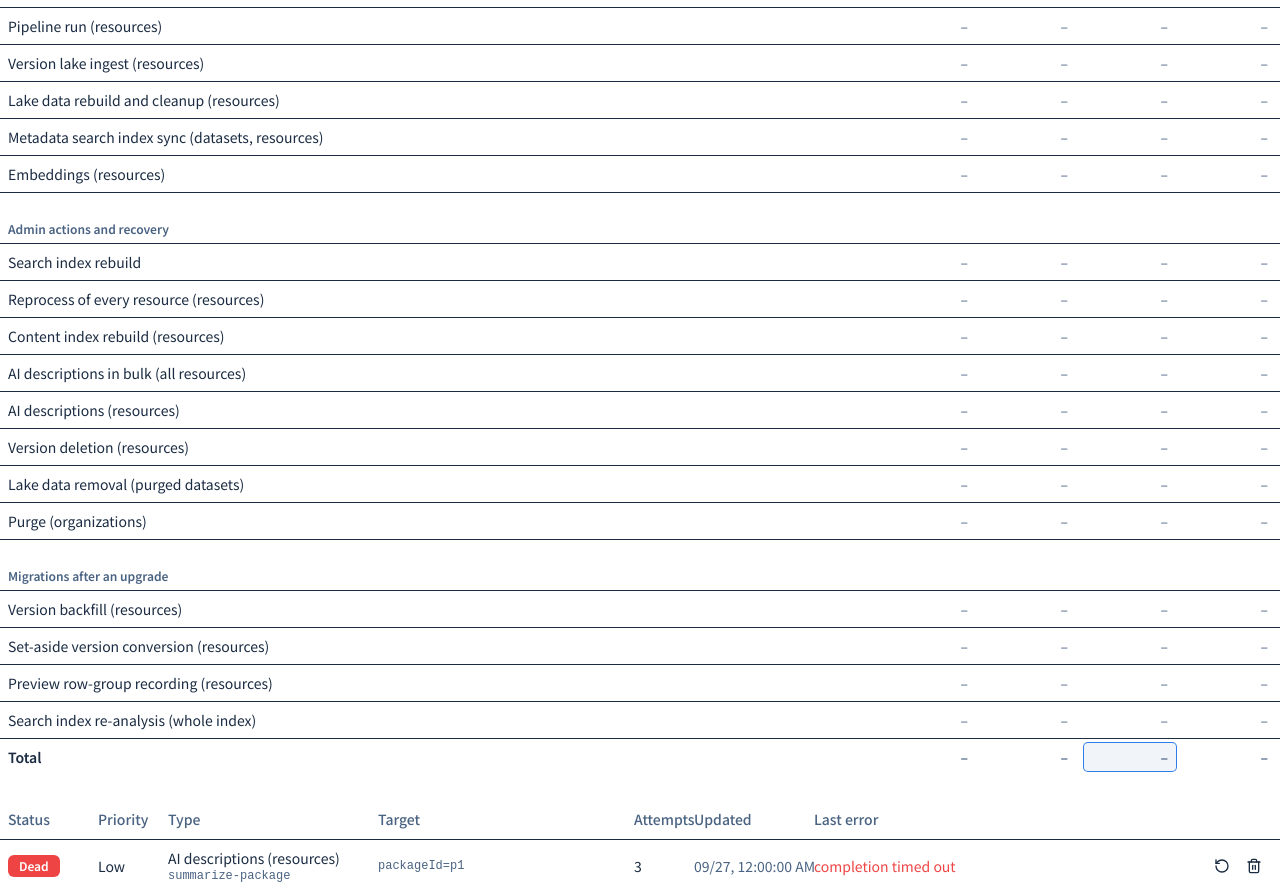
Test case: AdminQueuePage › stops polling while the delete dialog is open
(page scrolled)
Click the button named "Delete" at x=1254, y=866, box [1240,852,1268,880]
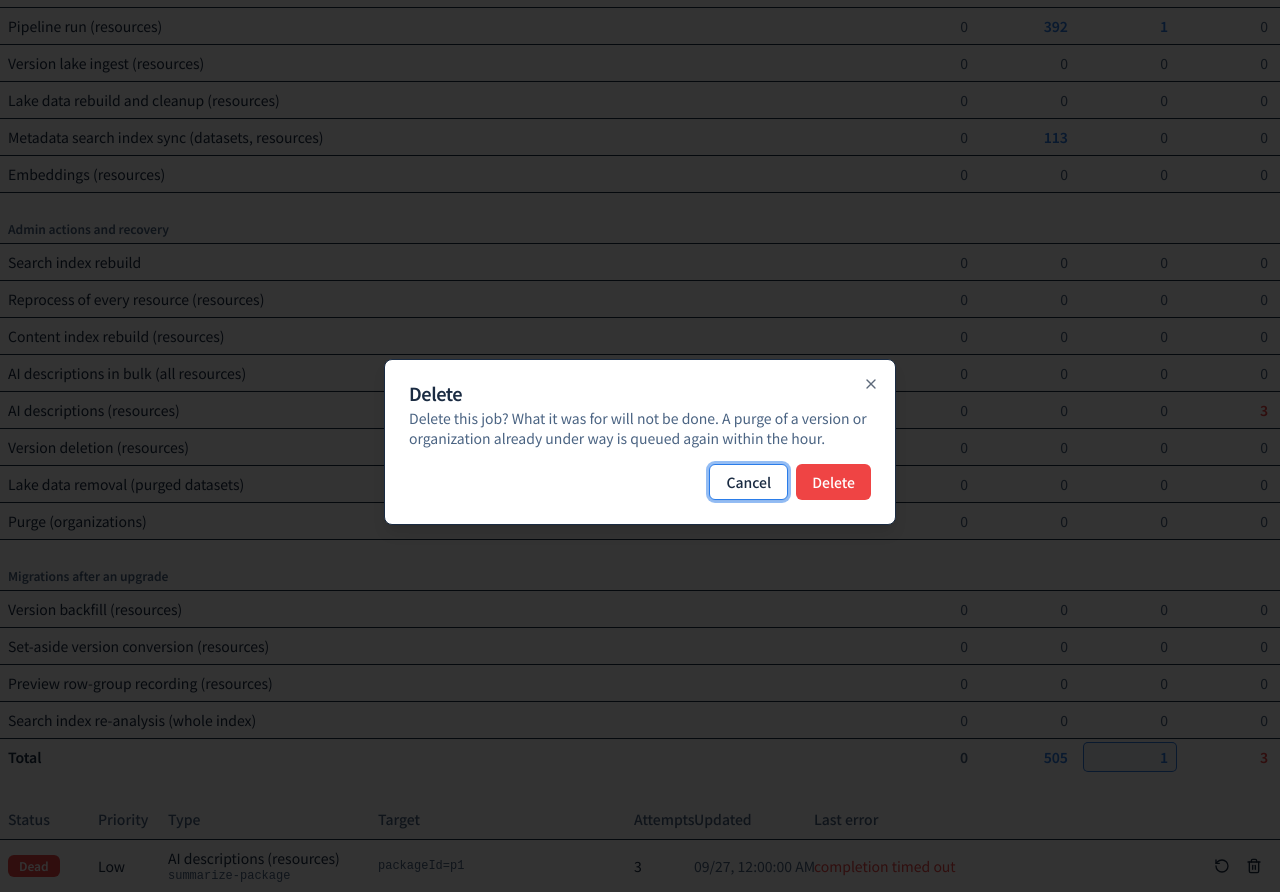
Now the dialog is shown, box [384,359,896,525]
